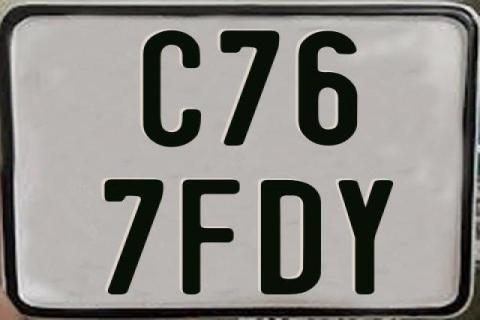0: (217, 31, 279, 150), (101, 178, 162, 298), (296, 29, 356, 149)
C: (140, 30, 204, 150)
D: (261, 178, 322, 294)
F: (179, 180, 237, 300)
Y: (338, 180, 398, 296)
